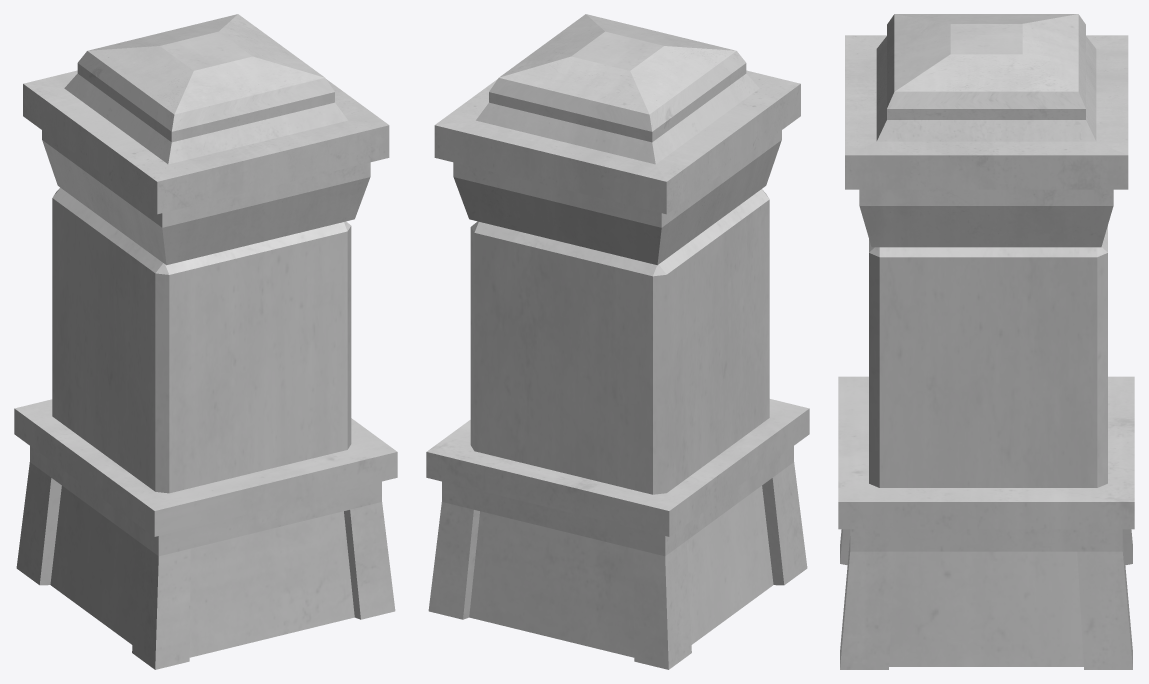
File: Pillar_D.fbx
3 renders of one model, left to right at view 1: azimuth 30°, elevation 25°; view 2: azimuth 150°, elevation 25°; view 3: azimuth 270°, elevation 25°, orthographic. The views are drawn at different scales.
Visible parts, largest first — view 1: Pillar_D; view 2: Pillar_D; view 3: Pillar_D.
Boxes of the visible parts, left/top/right/bottom form: Pillar_D: left=14, top=14, right=397, bottom=669; Pillar_D: left=426, top=14, right=809, bottom=669; Pillar_D: left=838, top=14, right=1134, bottom=669.
Bounding box in the file's own units: 142 × 302 × 142.
1 material, 1 textured.
